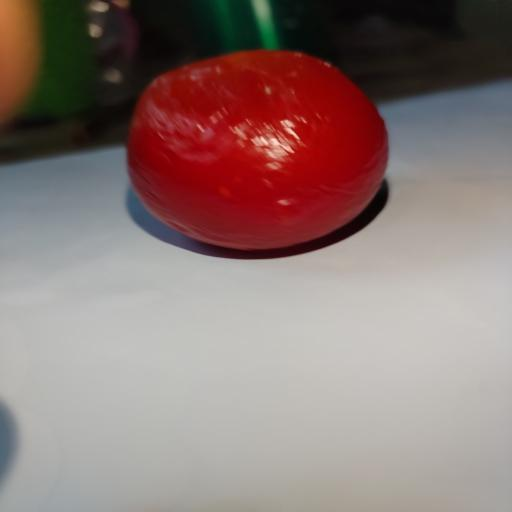spoiled: (127, 50, 388, 249)
